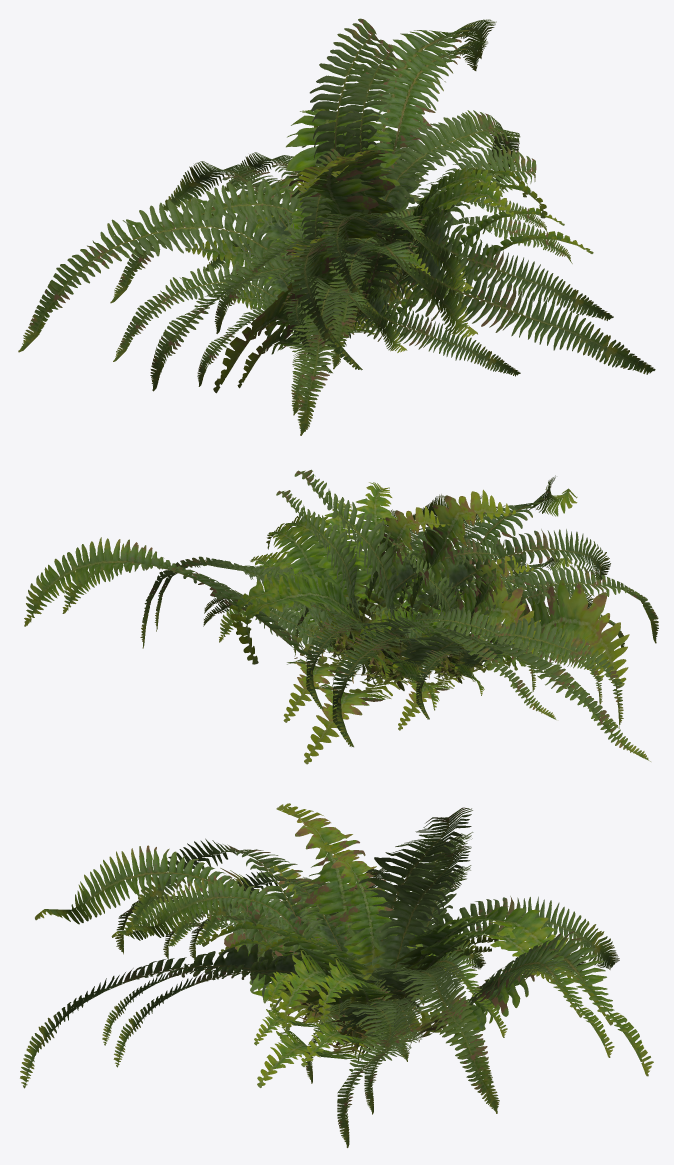
File: plant-fern.glb
3 renders of one model, top to bottom at view 1: azimuth 30°, elevation 25°; view 2: azimuth 150°, elevation 25°; view 3: azimuth 270°, elevation 25°, orthographic. The views are drawn at different scales.
Parts seen in each view (by area): view 1: Scanned fern · Poly Haven / Rico Cilliers and Rob Tuytel · C; view 2: Scanned fern · Poly Haven / Rico Cilliers and Rob Tuytel · C; view 3: Scanned fern · Poly Haven / Rico Cilliers and Rob Tuytel · C.
Part boxes in pixels (bbox=[...]): Scanned fern · Poly Haven / Rico Cilliers and Rob Tuytel · C: bbox=[18, 18, 655, 435]; Scanned fern · Poly Haven / Rico Cilliers and Rob Tuytel · C: bbox=[24, 469, 658, 764]; Scanned fern · Poly Haven / Rico Cilliers and Rob Tuytel · C: bbox=[20, 803, 653, 1147].
Size of the model in its own units: 0.3356 by 0.145 by 0.303.
1 material, 1 textured.
